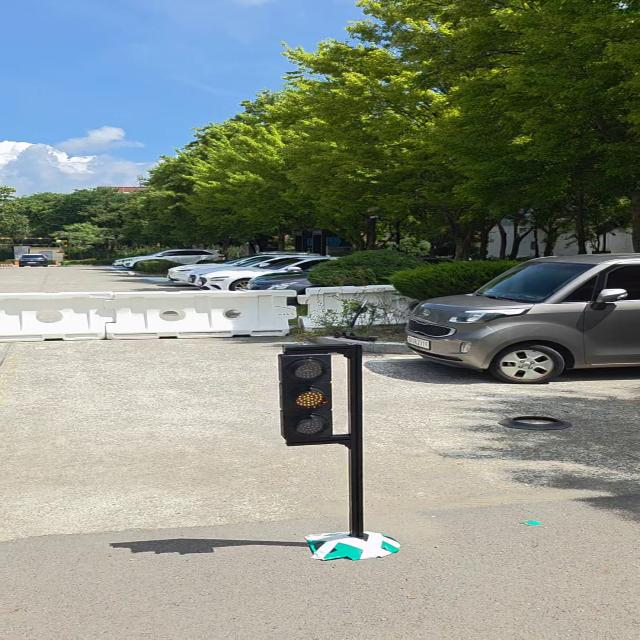yellow: (277, 352, 334, 439)
